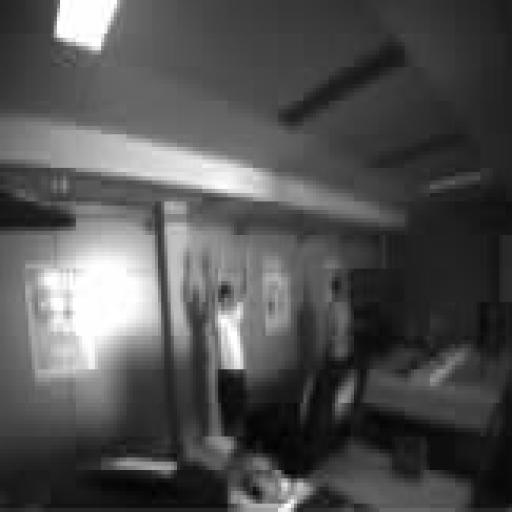human: (212, 265, 246, 444), (326, 273, 353, 360)
